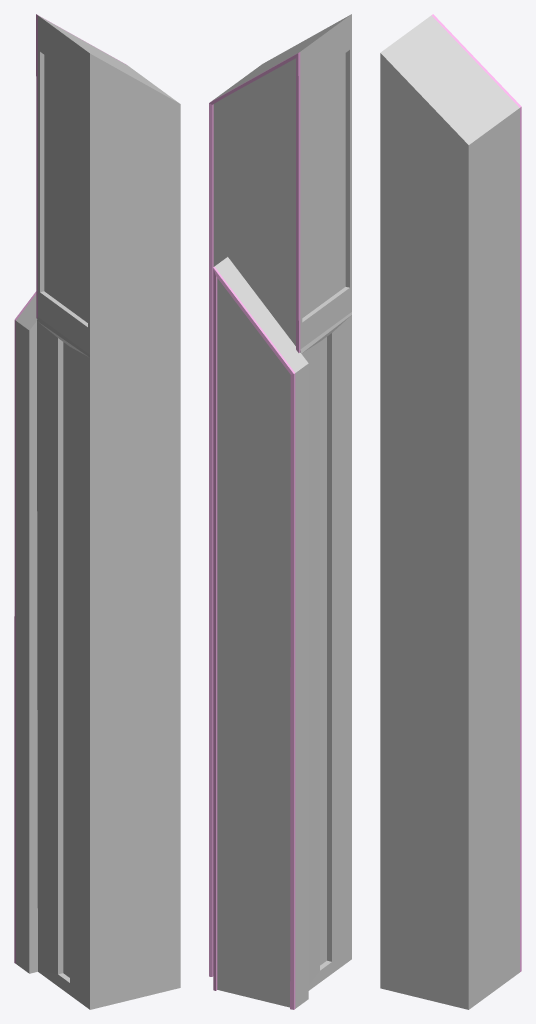
Rendered from SM_Environment_Buildings_Tall_06.fbx.
3 views of the same model, side by side, from view 1: azimuth 30°, elevation 25°; view 2: azimuth 150°, elevation 25°; view 3: azimuth 330°, elevation 25° (orthographic). The views are drawn at different scales.
Visible parts, largest first — view 1: SM_Environment_Buildings_Tall_07, Lights; view 2: SM_Environment_Buildings_Tall_07, Lights; view 3: SM_Environment_Buildings_Tall_07, Lights.
Boxes of the visible parts, left/top/right/bottom form: SM_Environment_Buildings_Tall_07: left=16, top=15, right=180, bottom=1009; Lights: left=14, top=14, right=127, bottom=963; SM_Environment_Buildings_Tall_07: left=212, top=14, right=351, bottom=1008; Lights: left=209, top=52, right=300, bottom=1009; SM_Environment_Buildings_Tall_07: left=380, top=15, right=519, bottom=1009; Lights: left=431, top=14, right=521, bottom=971.
Size of the model in its own units: 6.57 by 60.64 by 7.74.
